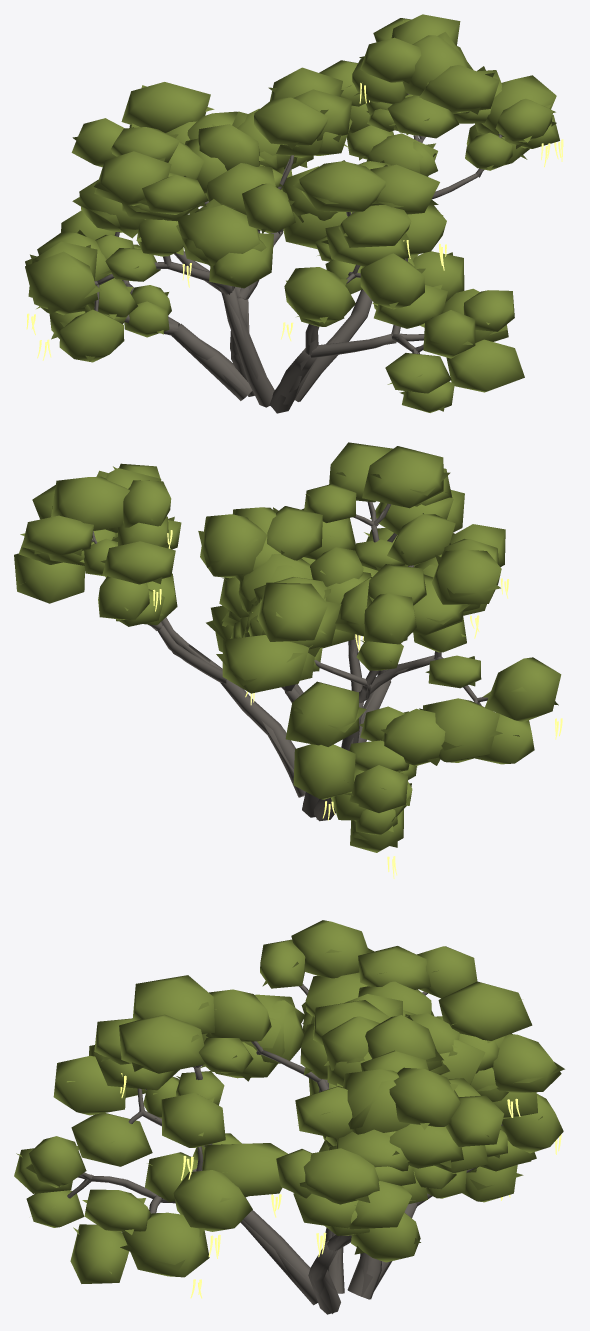
The model's file is scrub_oak_2.glb.
3 renders of one model, top to bottom at view 1: azimuth 30°, elevation 25°; view 2: azimuth 150°, elevation 25°; view 3: azimuth 270°, elevation 25°, orthographic. The views are drawn at different scales.
Visible parts, largest first — view 1: ScrubOak_Far_Foliage, ScrubOak_Foliage_104_Leaves, ScrubOak_Foliage_71_Leaves, ScrubOak_Foliage_81_Leaves, ScrubOak_Far_Bark, ScrubOak_Foliage_76_Leaves, ScrubOak_Foliage_87_Leaves, ScrubOak_Foliage_98_Leaves, ScrubOak_LimbWood_3, ScrubOak_LimbWood_4, ScrubOak_Foliage_34_Leaves, ScrubOak_Foliage_78_Leaves (+58 smaller); view 2: ScrubOak_Foliage_75_Leaves, ScrubOak_Foliage_104_Leaves, ScrubOak_Foliage_57_Leaves, ScrubOak_Foliage_81_Leaves, ScrubOak_Far_Foliage, ScrubOak_Foliage_76_Leaves, ScrubOak_Foliage_31_Leaves, ScrubOak_Foliage_82_Leaves, ScrubOak_Foliage_25_Leaves, ScrubOak_Foliage_78_Leaves, ScrubOak_Foliage_58_Leaves, ScrubOak_LimbWood_0 (+41 smaller); view 3: ScrubOak_Foliage_102_Leaves, ScrubOak_Foliage_76_Leaves, ScrubOak_Foliage_88_Leaves, ScrubOak_Far_Foliage, ScrubOak_Foliage_91_Leaves, ScrubOak_Foliage_104_Leaves, ScrubOak_Foliage_92_Leaves, ScrubOak_Foliage_25_Leaves, ScrubOak_Foliage_5_Leaves, ScrubOak_Foliage_78_Leaves, ScrubOak_Foliage_100_Leaves, ScrubOak_LimbWood_4 (+54 smaller).
Part boxes in pixels (x1=…): ScrubOak_Far_Foliage: x1=30, y1=20, x2=556, y2=411; ScrubOak_Foliage_104_Leaves: x1=299, y1=161, x2=385, y2=212; ScrubOak_Foliage_71_Leaves: x1=177, y1=205, x2=259, y2=265; ScrubOak_Foliage_81_Leaves: x1=25, y1=251, x2=98, y2=315; ScrubOak_Far_Bark: x1=94, y1=94, x2=502, y2=413; ScrubOak_Foliage_76_Leaves: x1=121, y1=82, x2=210, y2=132; ScrubOak_Foliage_87_Leaves: x1=446, y1=339, x2=524, y2=392; ScrubOak_Foliage_98_Leaves: x1=284, y1=267, x2=355, y2=322; ScrubOak_LimbWood_3: x1=94, y1=201, x2=274, y2=407; ScrubOak_LimbWood_4: x1=269, y1=212, x2=424, y2=407; ScrubOak_Foliage_34_Leaves: x1=254, y1=97, x2=328, y2=145; ScrubOak_Foliage_78_Leaves: x1=94, y1=151, x2=171, y2=205; ScrubOak_Foliage_75_Leaves: x1=222, y1=635, x2=309, y2=693; ScrubOak_Foliage_104_Leaves: x1=362, y1=446, x2=443, y2=508; ScrubOak_Foliage_57_Leaves: x1=285, y1=681, x2=358, y2=746; ScrubOak_Foliage_81_Leaves: x1=485, y1=657, x2=561, y2=722; ScrubOak_Far_Foliage: x1=20, y1=466, x2=558, y2=847; ScrubOak_Foliage_76_Leaves: x1=257, y1=582, x2=327, y2=641; ScrubOak_Foliage_31_Leaves: x1=200, y1=514, x2=267, y2=578; ScrubOak_Foliage_82_Leaves: x1=423, y1=698, x2=499, y2=762; ScrubOak_Foliage_25_Leaves: x1=51, y1=476, x2=129, y2=530; ScrubOak_Foliage_78_Leaves: x1=431, y1=549, x2=501, y2=604; ScrubOak_Foliage_58_Leaves: x1=293, y1=744, x2=355, y2=799; ScrubOak_LimbWood_0: x1=91, y1=531, x2=305, y2=797; ScrubOak_Foliage_102_Leaves: x1=119, y1=1014, x2=204, y2=1073; ScrubOak_Foliage_76_Leaves: x1=438, y1=981, x2=532, y2=1040; ScrubOak_Foliage_88_Leaves: x1=122, y1=1212, x2=209, y2=1277; ScrubOak_Far_Foliage: x1=16, y1=948, x2=564, y2=1273; ScrubOak_Foliage_91_Leaves: x1=173, y1=1170, x2=252, y2=1231; ScrubOak_Foliage_104_Leaves: x1=132, y1=975, x2=214, y2=1033; ScrubOak_Foliage_92_Leaves: x1=202, y1=1143, x2=287, y2=1196; ScrubOak_Foliage_25_Leaves: x1=389, y1=1067, x2=460, y2=1126; ScrubOak_Foliage_5_Leaves: x1=303, y1=1148, x2=379, y2=1204; ScrubOak_Foliage_78_Leaves: x1=291, y1=920, x2=368, y2=978; ScrubOak_Foliage_100_Leaves: x1=71, y1=1113, x2=152, y2=1166; ScrubOak_LimbWood_4: x1=67, y1=1064, x2=317, y2=1305.
Size of the model in its own units: 5.5 by 3.01 by 4.6.
